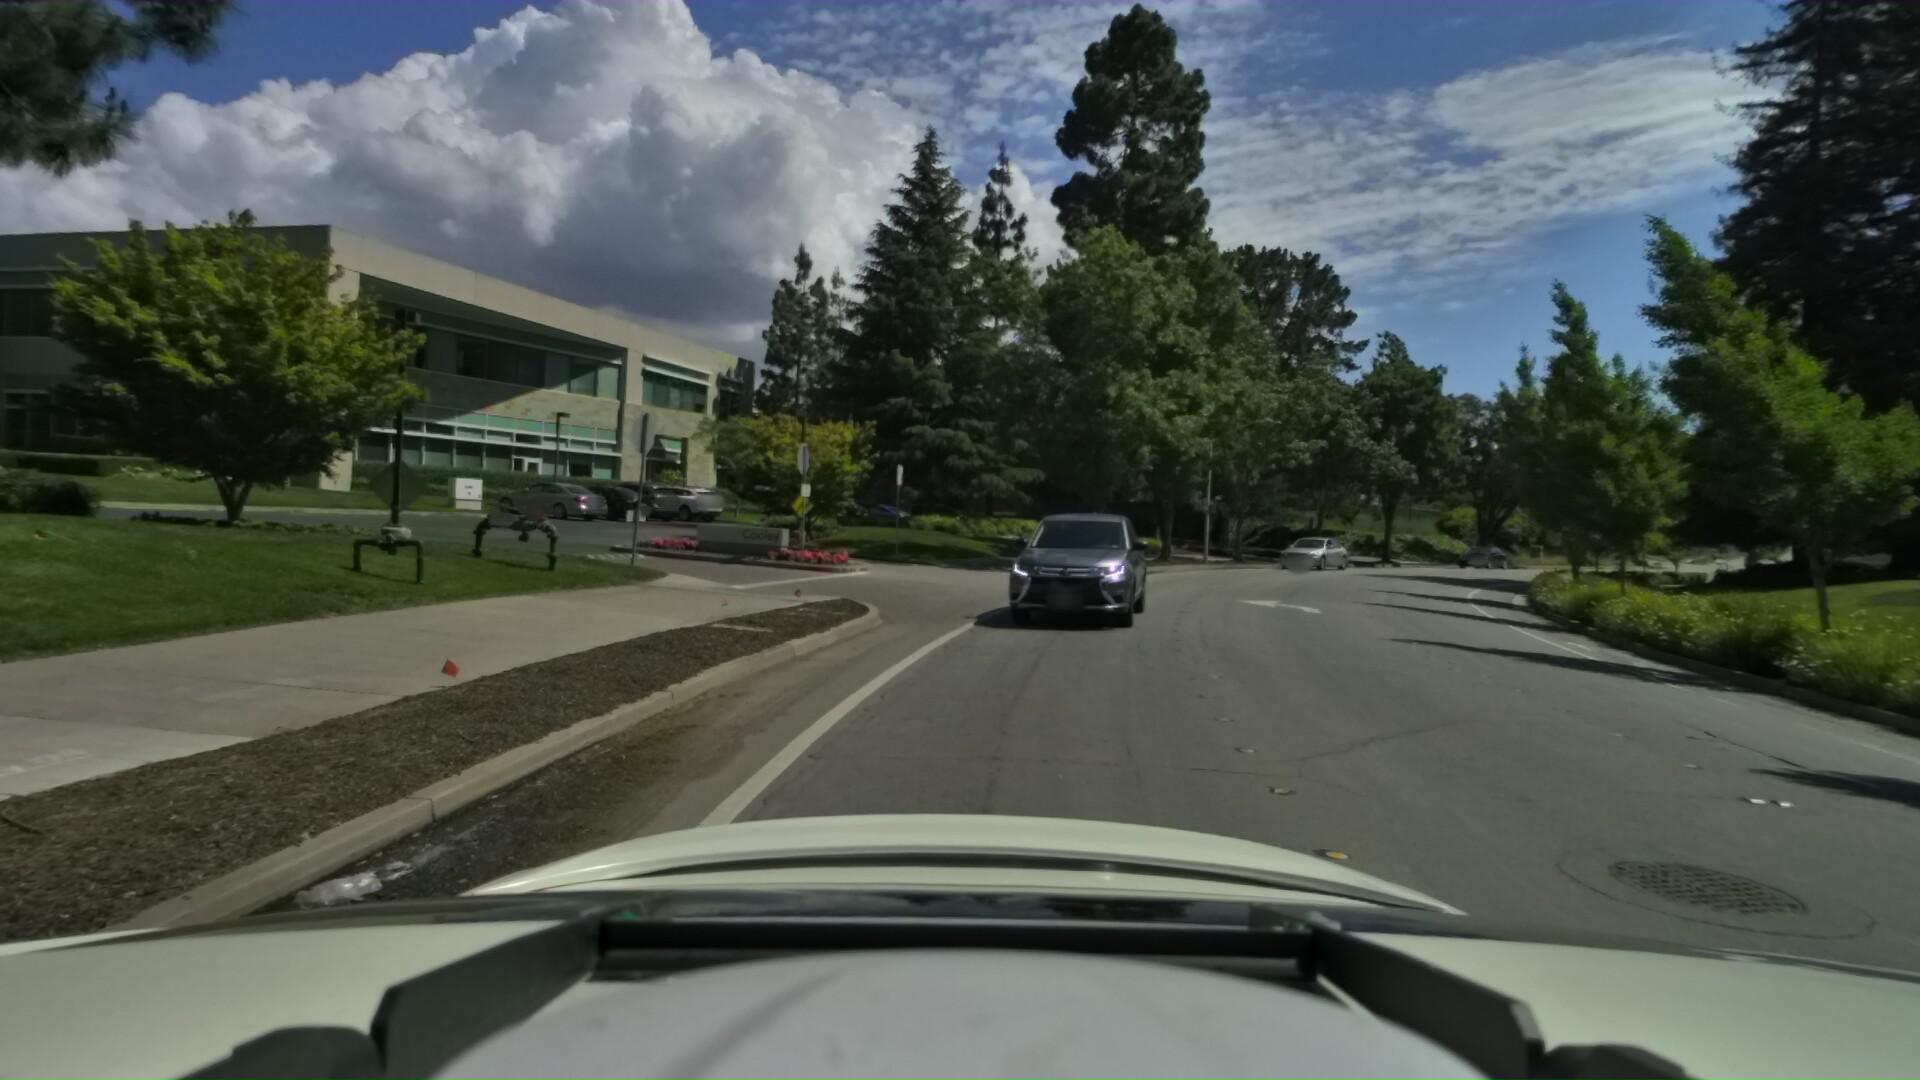car: (1004, 492, 1151, 622), (1276, 524, 1357, 567), (1452, 534, 1513, 563)
